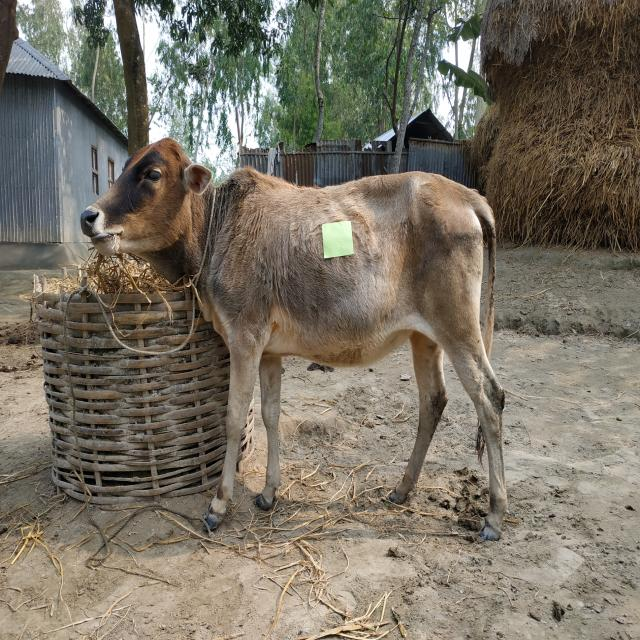badan_sapi: (219, 166, 478, 365)
sapi: (79, 135, 510, 540)
